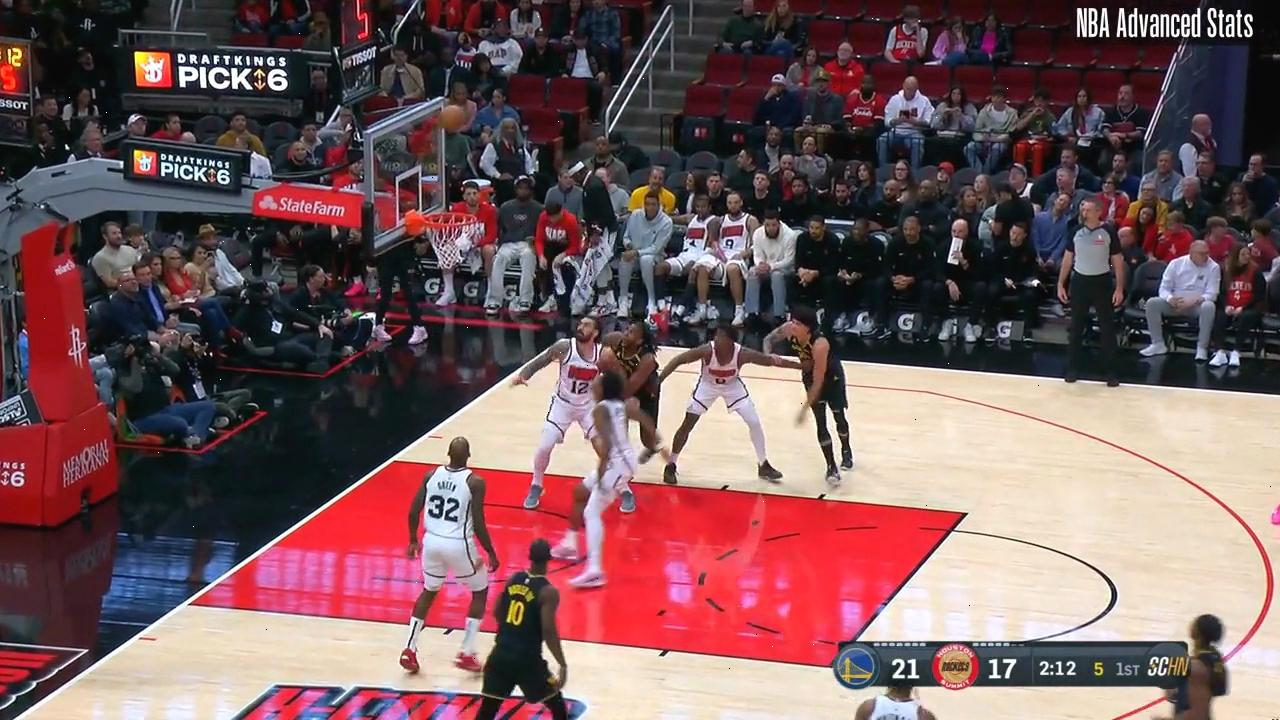basketball: (440, 101, 469, 133)
